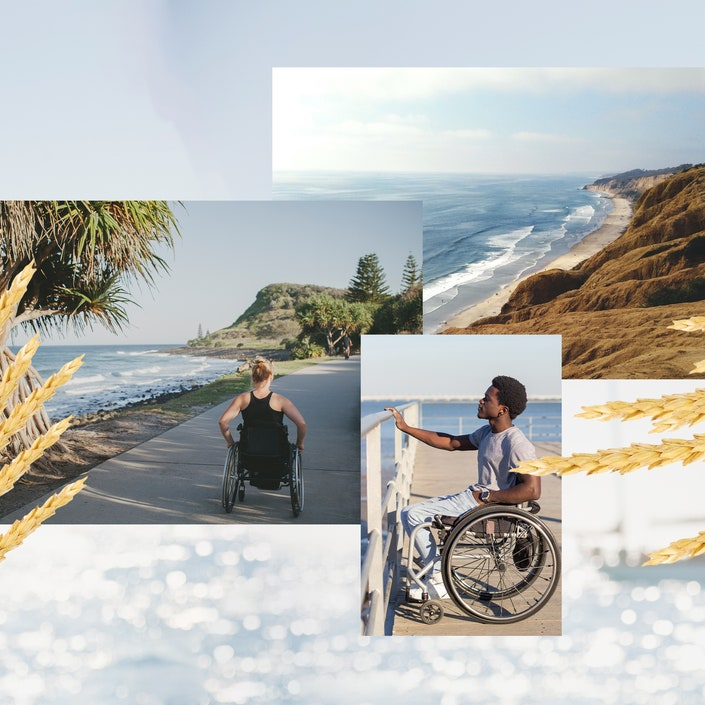wheelchair: (385, 375, 560, 626), (218, 357, 306, 516)
